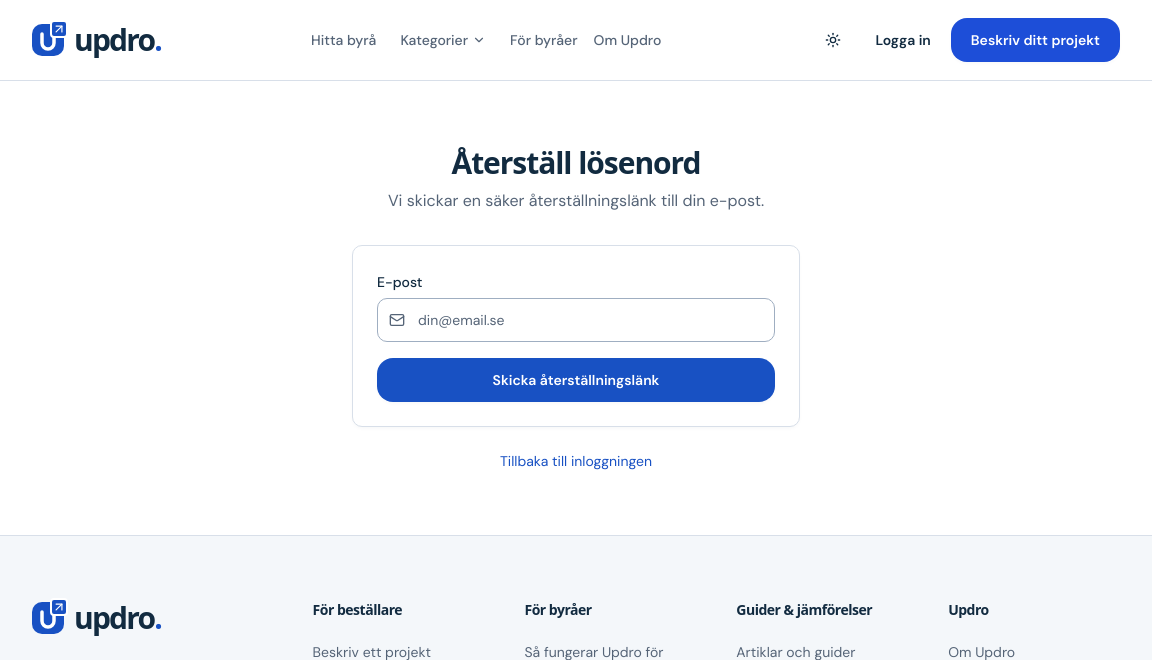
Test: sends the password reset to the fixed updro.se address
Type "user@example.test" into the field labelled "E-post" at (576,320), box [377,298,775,342]
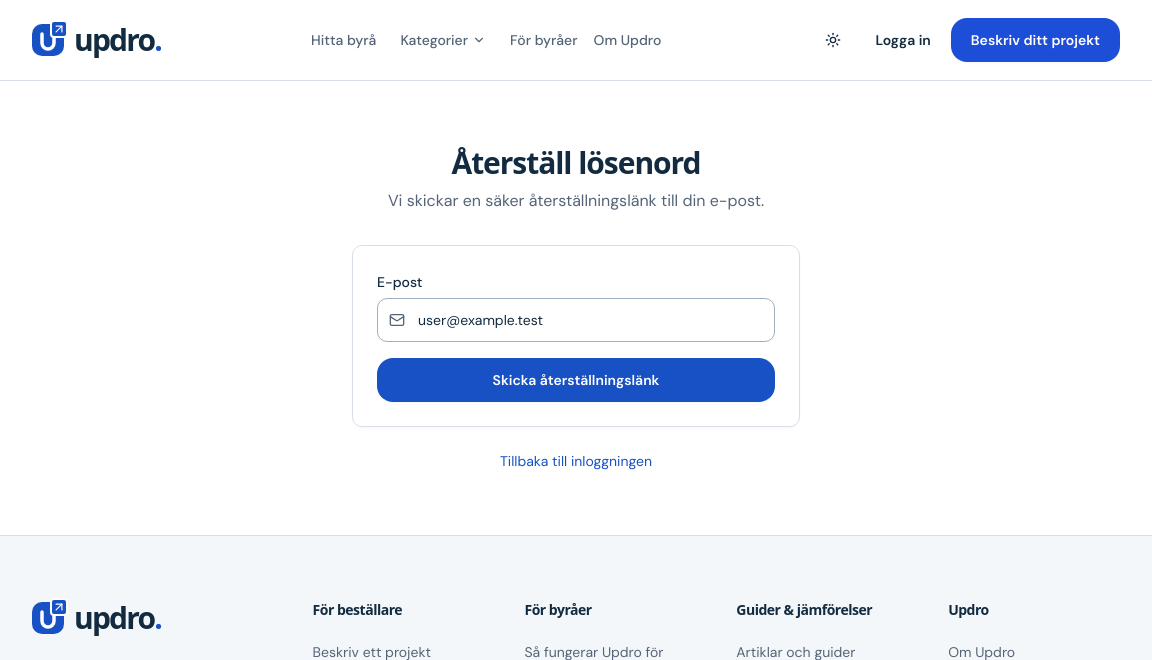
Click the button "Skicka återställningslänk" at (576,380), box [377,358,775,402]
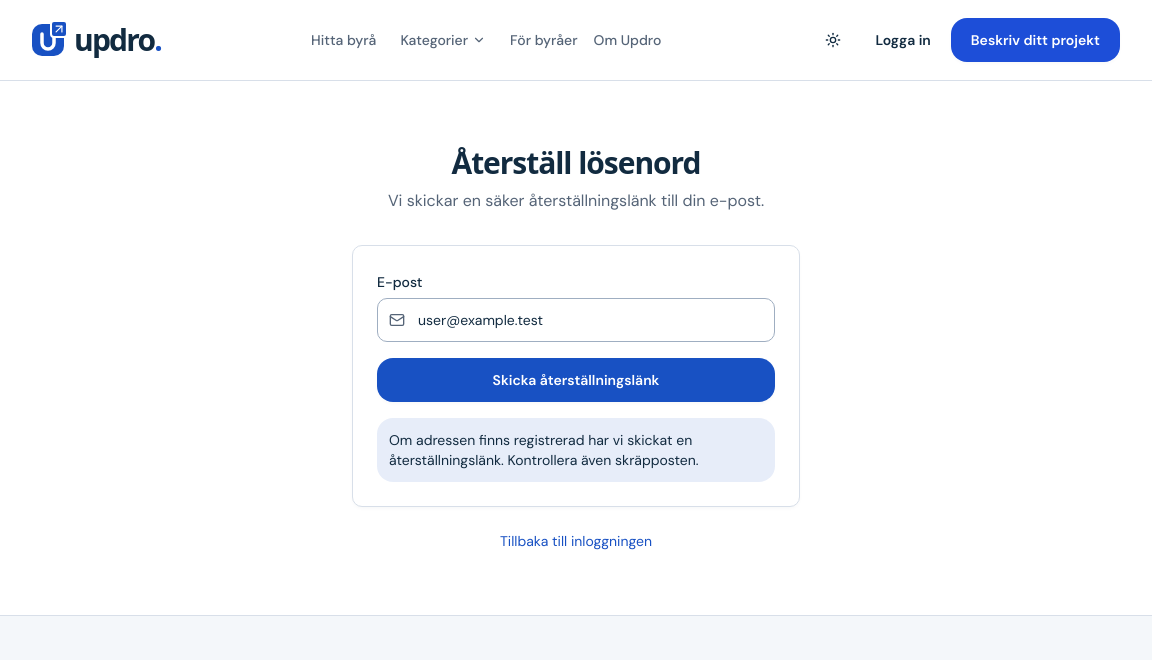
expect the message shows "återställningslänk": met, box [389,431,699,469]
